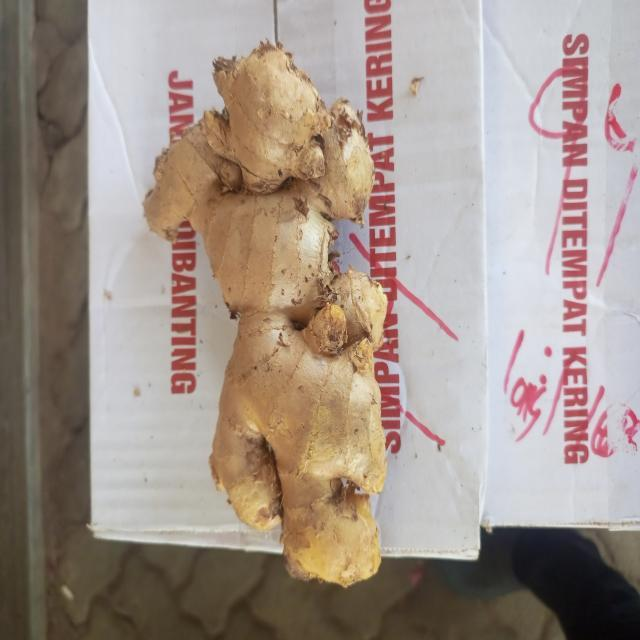ginger: (154, 48, 382, 584)
